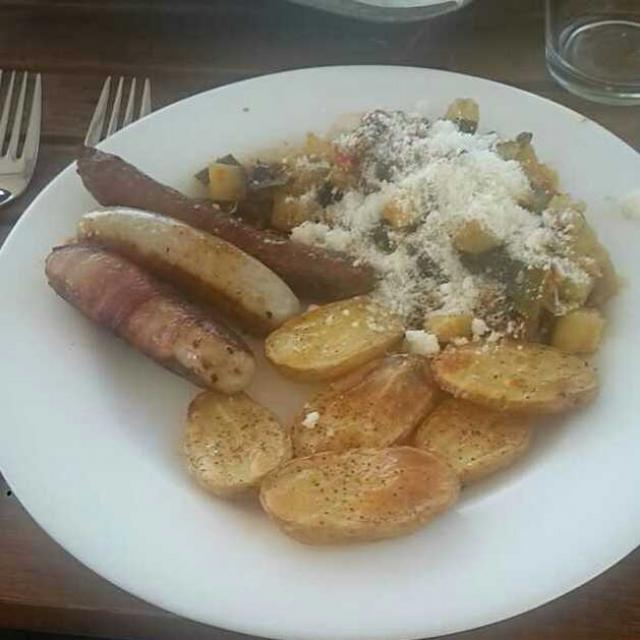cheese: (305, 115, 551, 347)
potatoes-steamed: (175, 286, 599, 522)
ratatouille: (223, 104, 631, 352)
smoked-cooked-sausage-of-pork-and-beef-meat-sausag: (82, 146, 415, 296)
veal-sausage: (42, 198, 306, 400)
